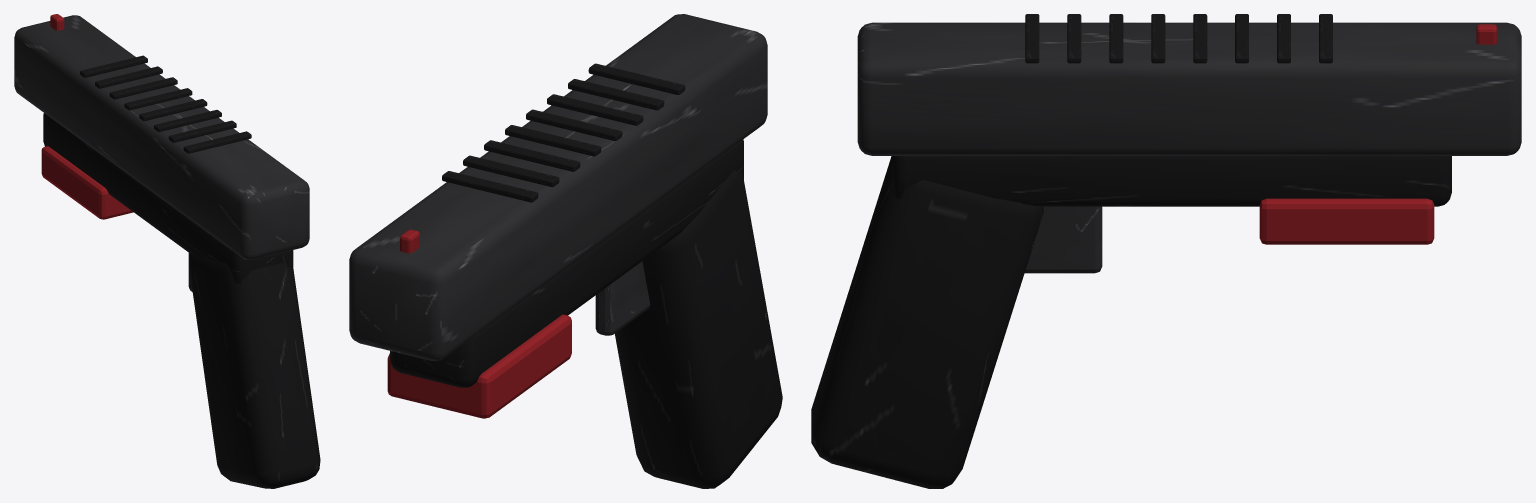
The model's file is weapon-pistol.glb.
The picture shows the model from 3 angles, left to right: view 1: azimuth 30°, elevation 25°; view 2: azimuth 150°, elevation 25°; view 3: azimuth 270°, elevation 25°; orthographic projection. The views are drawn at different scales.
Visible parts, largest first — view 1: Cube, Cube.010, Cube.009, Cube.013, Cube.005, Cube.001, Cube.002, Cube.006, Cube.004, Cube.007, Cube.003, Cube.008; view 2: Cube, Cube.010, Cube.009, Cube.013, Cube.011, Cube.008, Cube.006, Cube.001, Cube.002, Cube.003, Cube.004, Cube.005 (+1 smaller); view 3: Cube, Cube.010, Cube.009, Cube.013, Cube.011, Cube.004.
Part boxes in pixels (x1,y1,x2,y2): Cube: (14, 15, 309, 260); Cube.010: (188, 253, 320, 488); Cube.009: (43, 113, 293, 283); Cube.013: (41, 146, 133, 219); Cube.005: (124, 88, 192, 110); Cube.001: (183, 131, 251, 153); Cube.002: (168, 120, 236, 142); Cube.006: (109, 77, 177, 99); Cube.004: (139, 99, 207, 121); Cube.007: (95, 66, 162, 88); Cube.003: (154, 110, 221, 131); Cube.008: (80, 55, 147, 77); Cube: (349, 14, 767, 360); Cube.010: (615, 170, 782, 488); Cube.009: (390, 139, 743, 387); Cube.013: (387, 314, 571, 418); Cube.011: (595, 261, 650, 335); Cube.008: (442, 171, 538, 202); Cube.006: (484, 140, 580, 171); Cube.001: (588, 63, 685, 94); Cube.002: (568, 79, 664, 110); Cube.003: (547, 94, 643, 125); Cube.004: (526, 109, 622, 140); Cube.005: (505, 125, 601, 156); Cube: (857, 22, 1521, 155); Cube.010: (811, 156, 1043, 488); Cube.009: (892, 156, 1451, 206); Cube.013: (1259, 198, 1434, 244); Cube.011: (1025, 206, 1102, 273); Cube.004: (1151, 14, 1165, 63).
Bounding box in the file's own units: 0.034 × 0.1421 × 0.2033.
3 materials, 2 textured.
